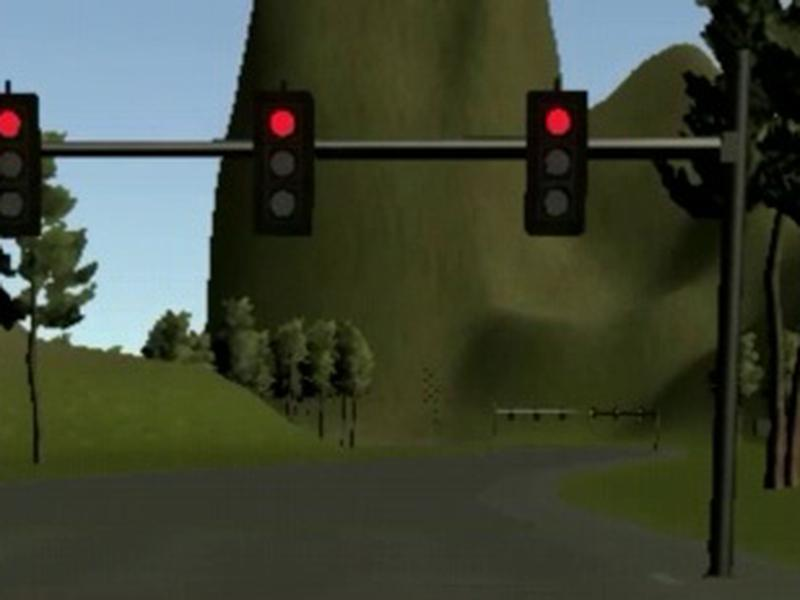Red: (524, 90, 586, 236), (253, 90, 314, 237), (1, 92, 41, 236)
